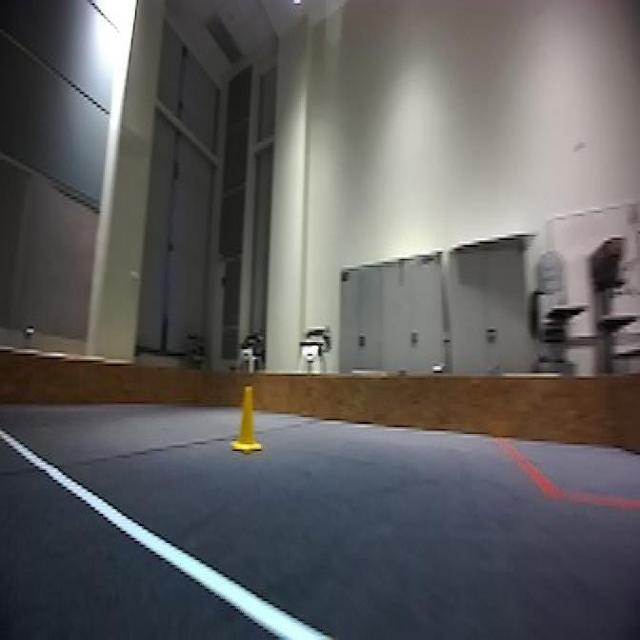frc_cone: (231, 379, 266, 458)
